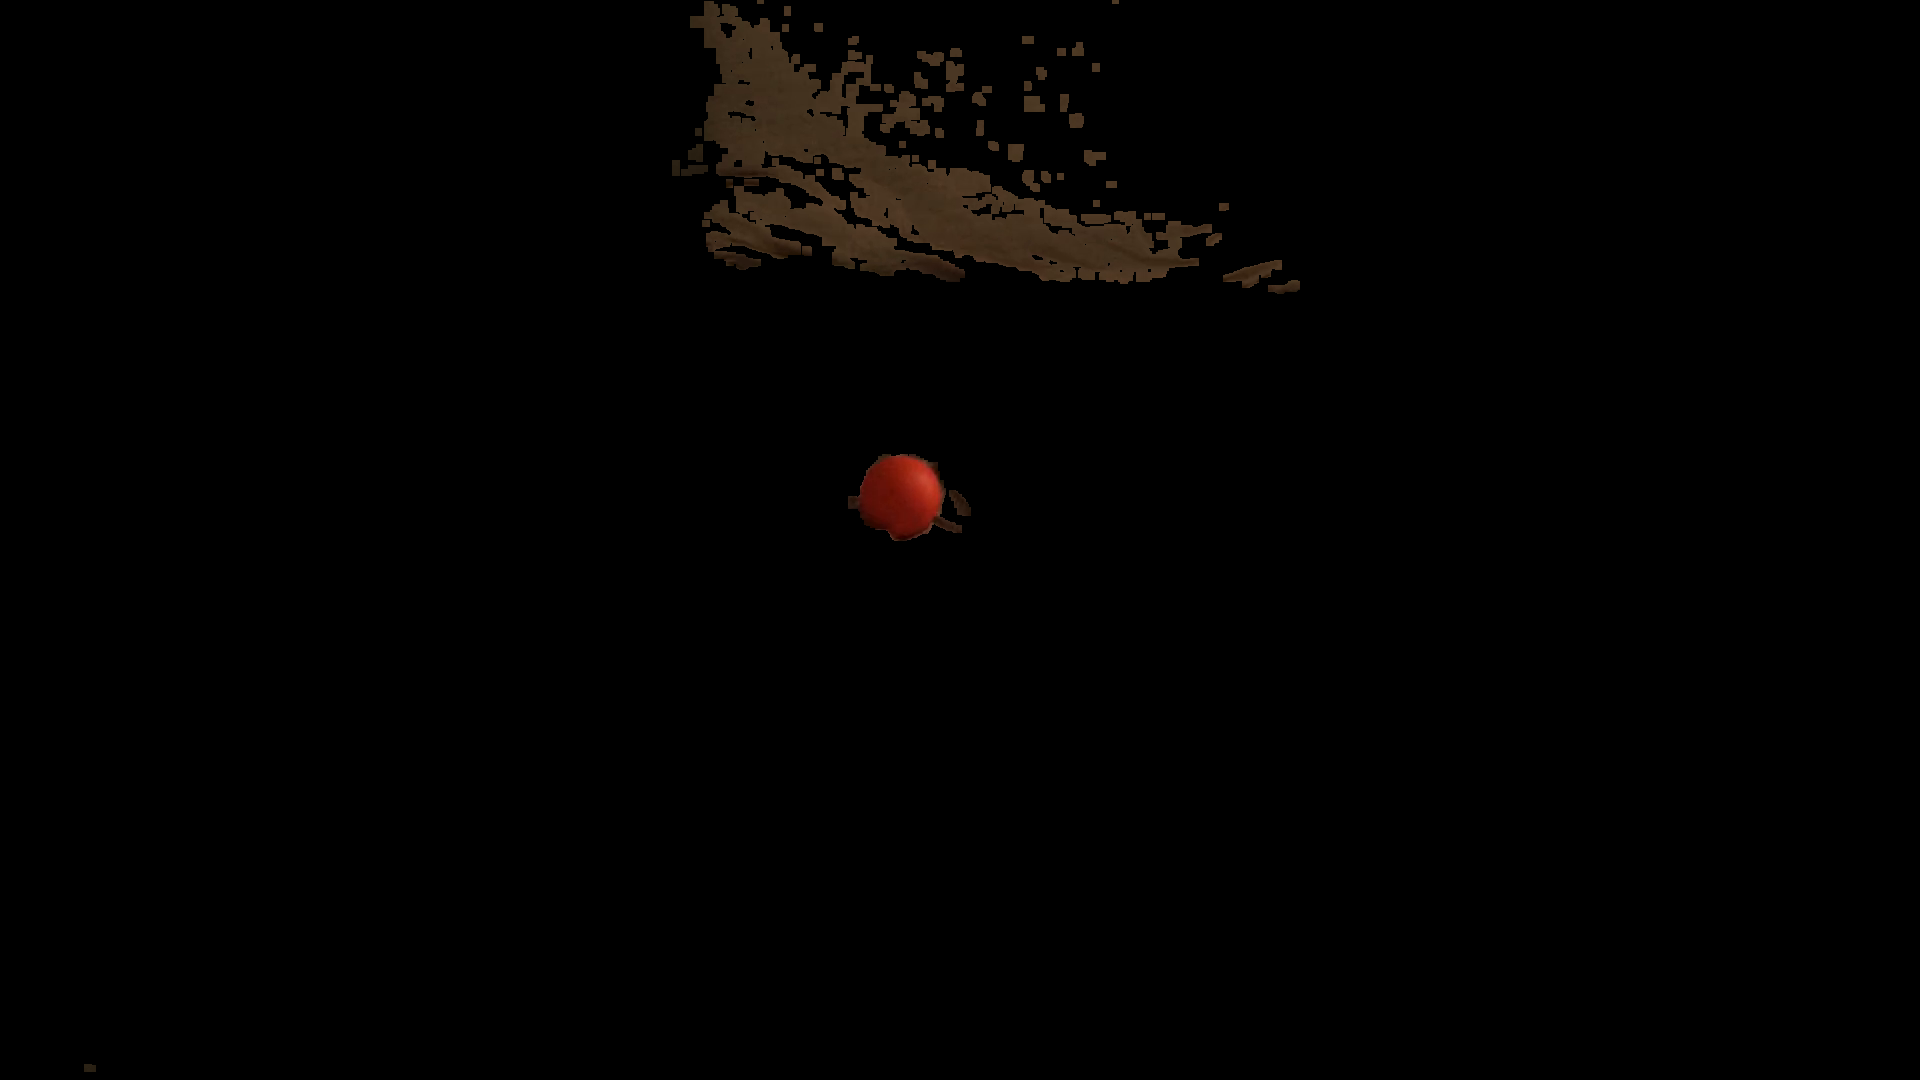Ball: (857, 456, 940, 543)
